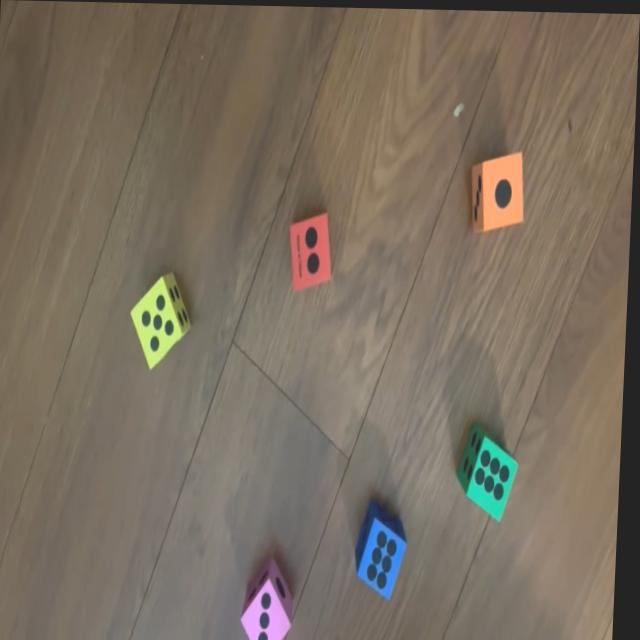blue_block: (359, 496, 414, 599)
red_block: (290, 211, 334, 286)
